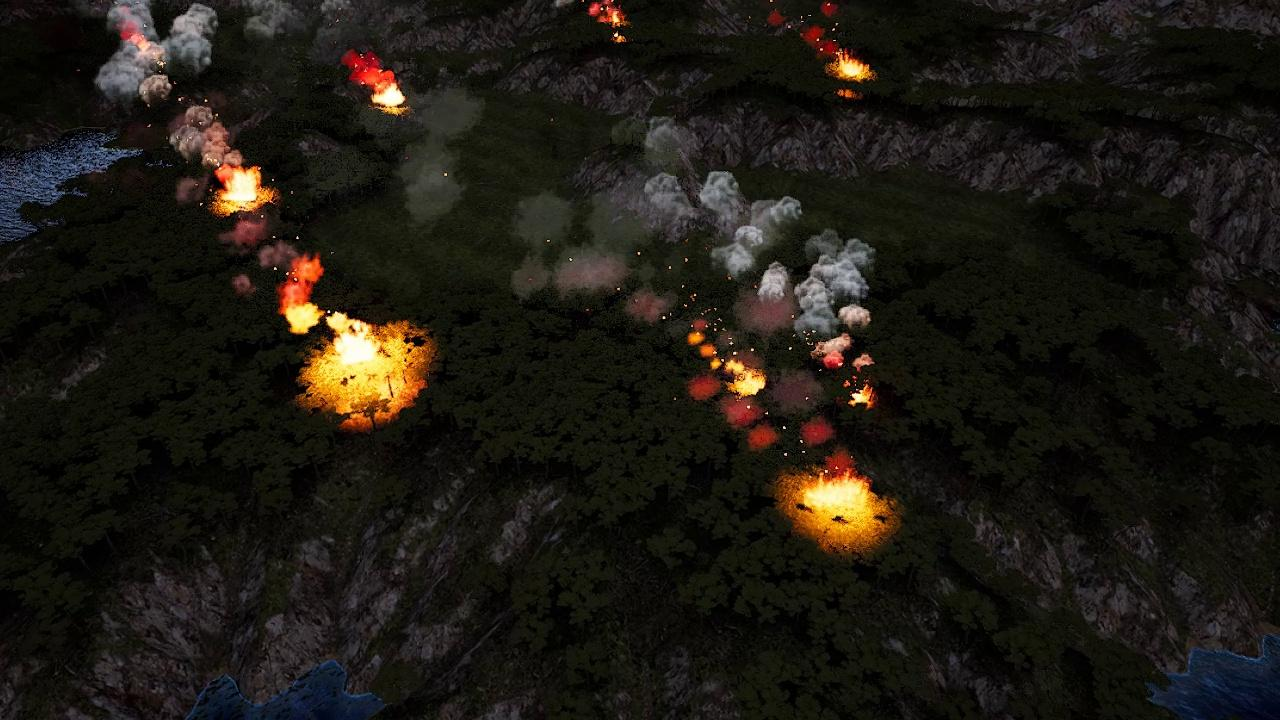fire: (296, 310, 426, 421), (685, 332, 765, 397), (799, 470, 878, 529), (351, 53, 411, 115), (281, 256, 323, 332), (214, 165, 266, 212), (833, 57, 877, 85), (588, 0, 624, 29), (845, 384, 882, 410)
smoke: (516, 121, 881, 455), (91, 0, 245, 163), (397, 88, 479, 225), (800, 0, 850, 55)
